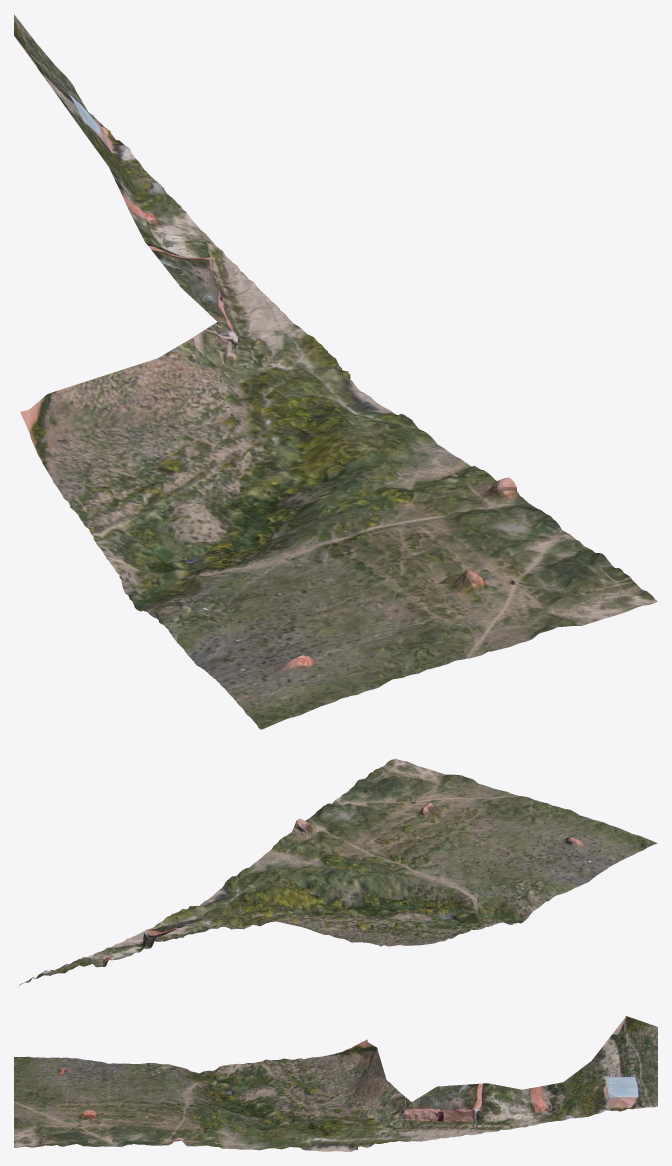
File: MODELO6.glb
The picture shows the model from 3 angles, top to bottom: view 1: azimuth 30°, elevation 25°; view 2: azimuth 150°, elevation 25°; view 3: azimuth 270°, elevation 25°; orthographic projection. The views are drawn at different scales.
Size of the model in its own units: 40.69 by 22.46 by 102.
1 material, 1 textured.
